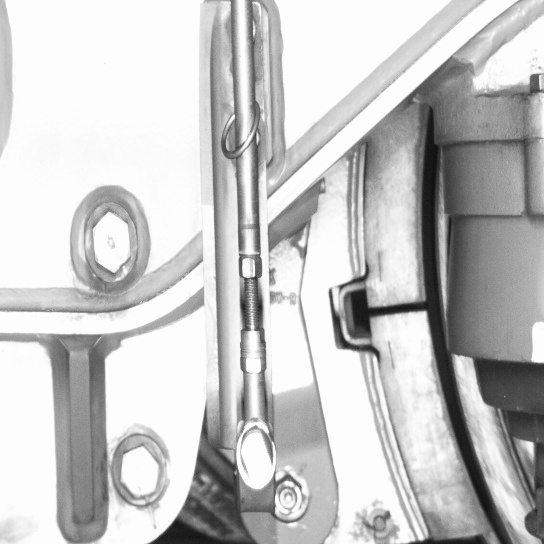KnifeSwitch: (361, 142, 514, 541)
